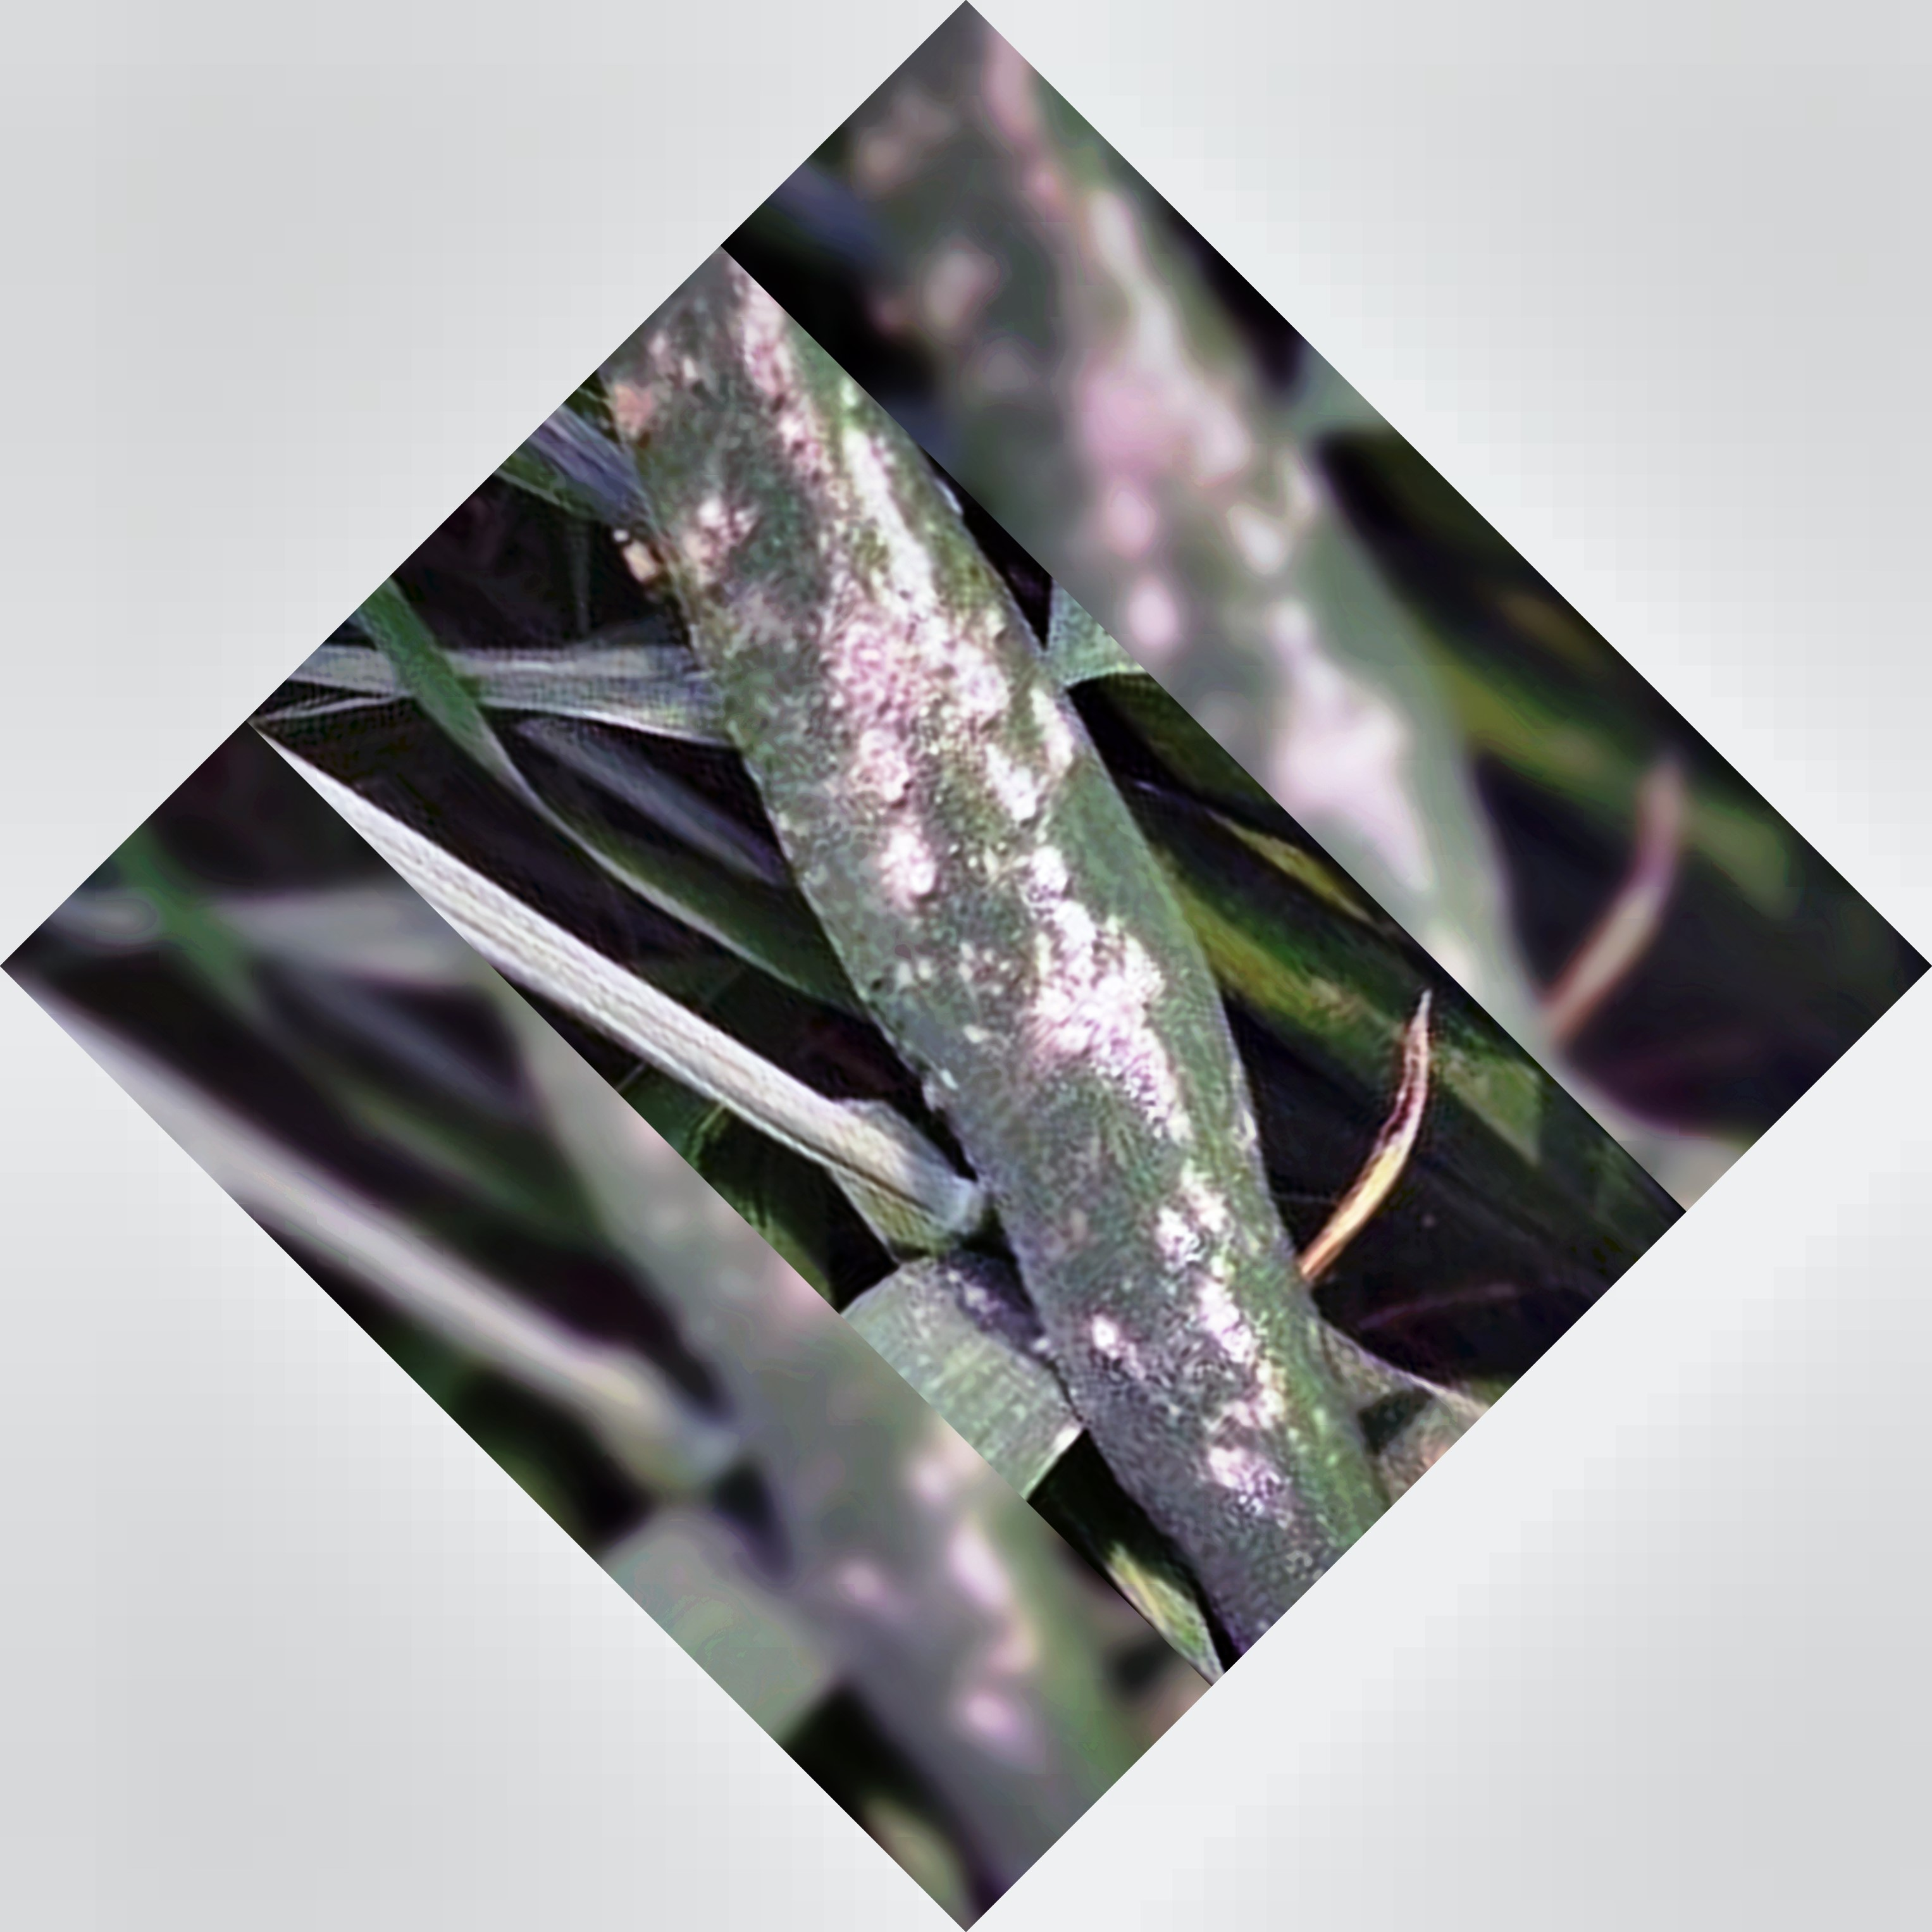Powdery Mildew: (694, 416, 1329, 1456)
